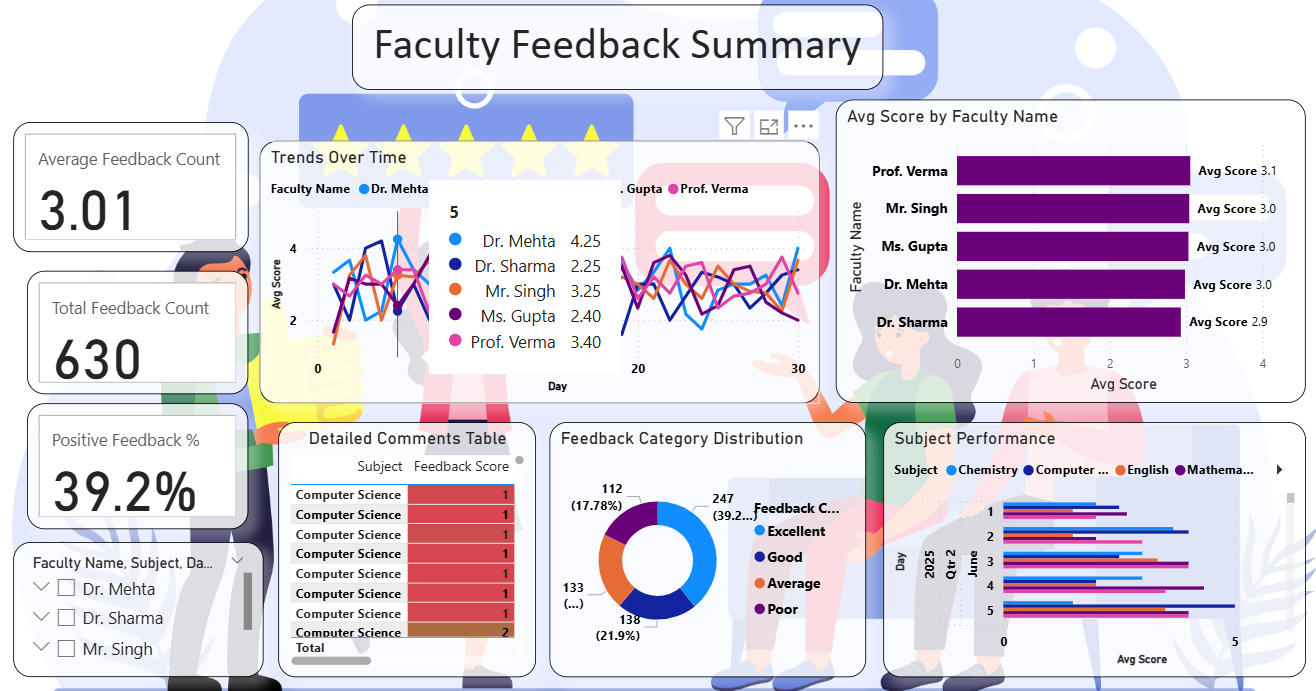

The dashboard page shown, as its layout file describes it:
{"tool":"powerbi","page":{"name":"Page 1","canvas":[1280,720],"ordinal":0},"visuals":[{"type":"cardVisual","fields":{"Data":["Sheet1.Avg Score"]},"box":[15.7,159.3,226.8,125.5],"z":0},{"type":"cardVisual","fields":{"Data":["Sheet1.Total Feedback"]},"box":[29,302.8,213.5,119.4],"z":1000},{"type":"cardVisual","fields":{"Data":["Sheet1.Positive %"]},"box":[29,430.7,213.5,121.9],"z":2000},{"type":"clusteredBarChart","fields":{"Y":["Sheet1.Avg Score"],"Category":["Sheet1.Faculty Name"]},"box":[809.5,137.5,453.6,293.2],"z":3000},{"type":"donutChart","title":"Feedback Category Distribution","fields":{"Category":["Sheet1.Feedback Category"],"Y":["Sheet1.Feedback Category"]},"box":[533.2,448.8,305.2,246.1],"z":4000},{"type":"clusteredBarChart","title":"Subject Performance","fields":{"Category":["Sheet1.Date.Variation.Date Hierarchy.Year","Sheet1.Date.Variation.Date Hierarchy.Quarter","Sheet1.Date.Variation.Date Hierarchy.Month","Sheet1.Date.Variation.Date Hierarchy.Day"],"Y":["Sheet1.Avg Score"],"Series":["Sheet1.Subject"]},"box":[855.4,448.8,407.8,246.1],"z":5000},{"type":"slicer","fields":{"Values":["Sheet1.Faculty Name","Sheet1.Subject","Sheet1.Date"]},"box":[15.7,564.6,241.3,130.3],"z":6000},{"type":"lineChart","title":"Trends Over Time","fields":{"Y":["Sheet1.Avg Score"],"Series":["Sheet1.Faculty Name"],"Category":["Sheet1.Date.Variation.Date Hierarchy.Day"]},"box":[253.4,177.3,540.5,253.4],"z":7000},{"type":"tableEx","title":"Detailed Comments Table","fields":{"Values":["Sheet1.Subject","Sheet1.Feedback Score","Sheet1.Feedback Category","Sheet1.Faculty Name","Sheet1.Student Comment"]},"box":[271.4,448.8,248.5,246.1],"z":8000},{"type":"textbox","box":[342.6,45.8,512.7,82],"z":9000}]}

Visuals, with their boxes on the page's 1280x720 design canvas (x1, y1, x2, y2). These are canvas units, not pixel positions in the 1316x691 screenshot, which may show the page scaled, cropped or inside an application window:
cardVisual - Sheet1.Avg Score: pyautogui.locateOnScreen(16, 159, 242, 285)
cardVisual - Sheet1.Total Feedback: pyautogui.locateOnScreen(29, 303, 242, 422)
cardVisual - Sheet1.Positive %: pyautogui.locateOnScreen(29, 431, 242, 553)
clusteredBarChart - Sheet1.Avg Score x Sheet1.Faculty Name: pyautogui.locateOnScreen(810, 138, 1263, 431)
"Feedback Category Distribution" donutChart: pyautogui.locateOnScreen(533, 449, 838, 695)
"Subject Performance" clusteredBarChart: pyautogui.locateOnScreen(855, 449, 1263, 695)
slicer - Sheet1.Faculty Name x Sheet1.Subject: pyautogui.locateOnScreen(16, 565, 257, 695)
"Trends Over Time" lineChart: pyautogui.locateOnScreen(253, 177, 794, 431)
"Detailed Comments Table" tableEx: pyautogui.locateOnScreen(271, 449, 520, 695)
textbox: pyautogui.locateOnScreen(343, 46, 855, 128)
